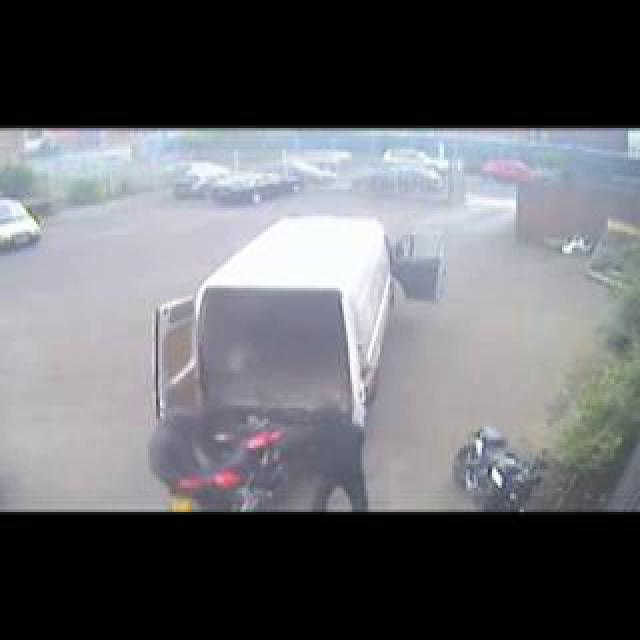stealing: (126, 236, 382, 512)
